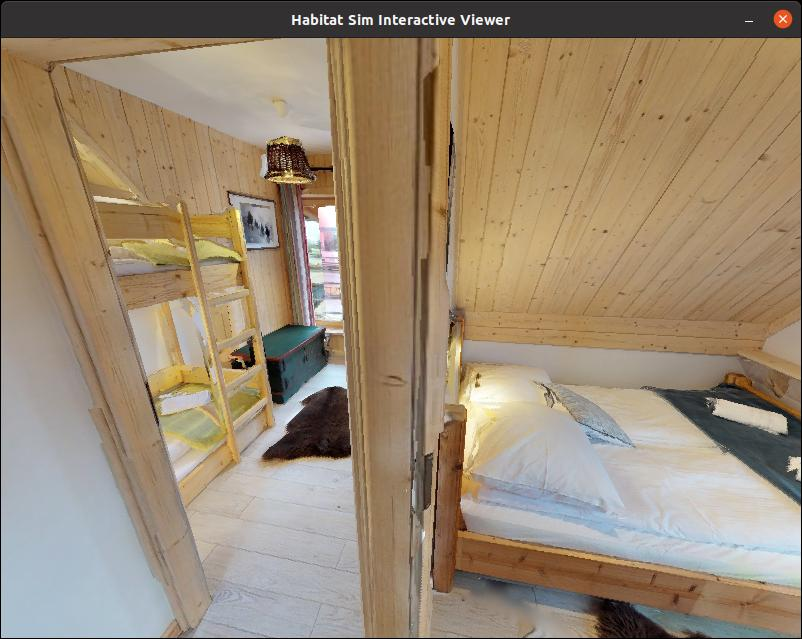bed: (411, 327, 802, 635)
door-frame: (33, 39, 383, 639)
